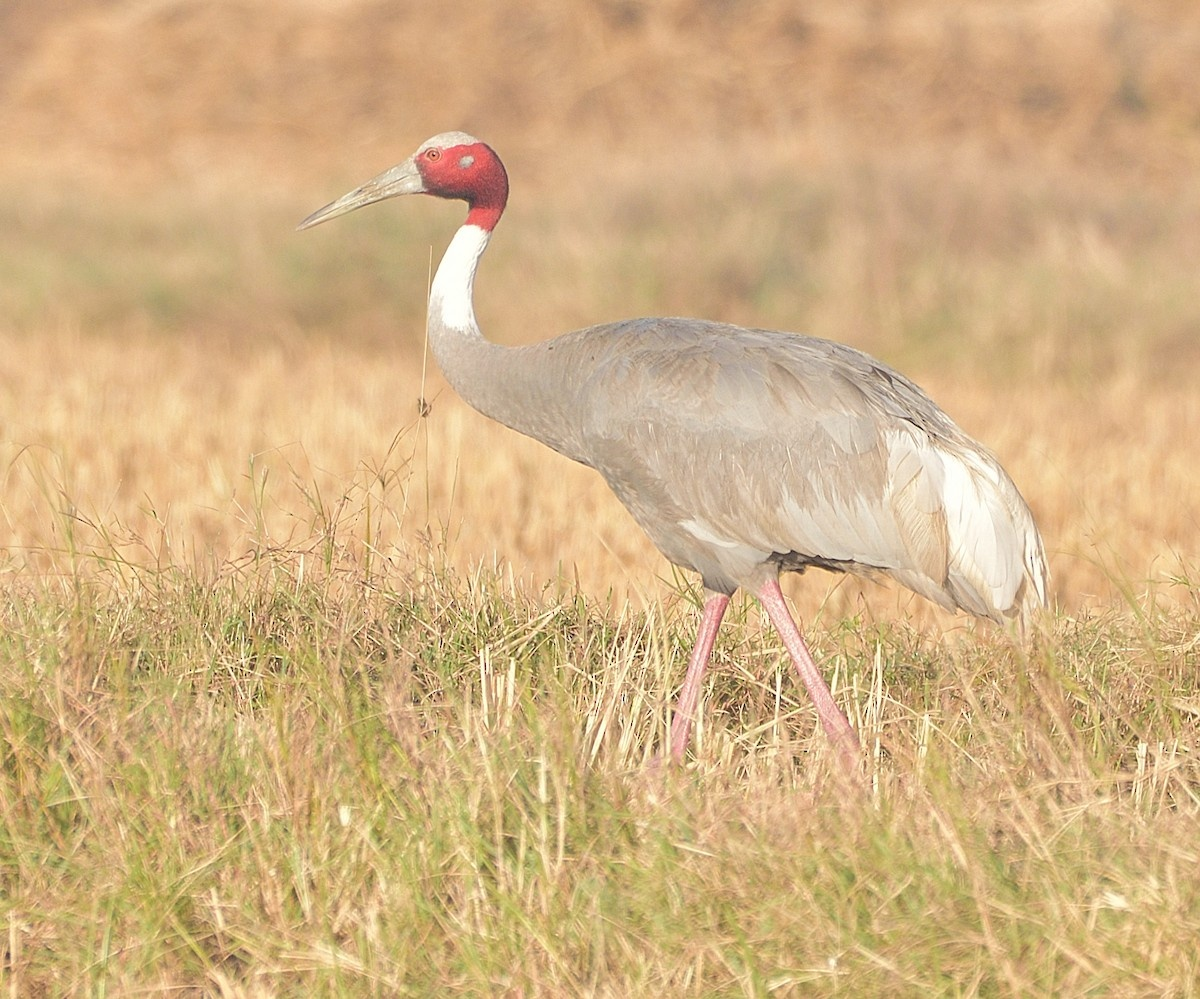crane: (309, 119, 1057, 793)
